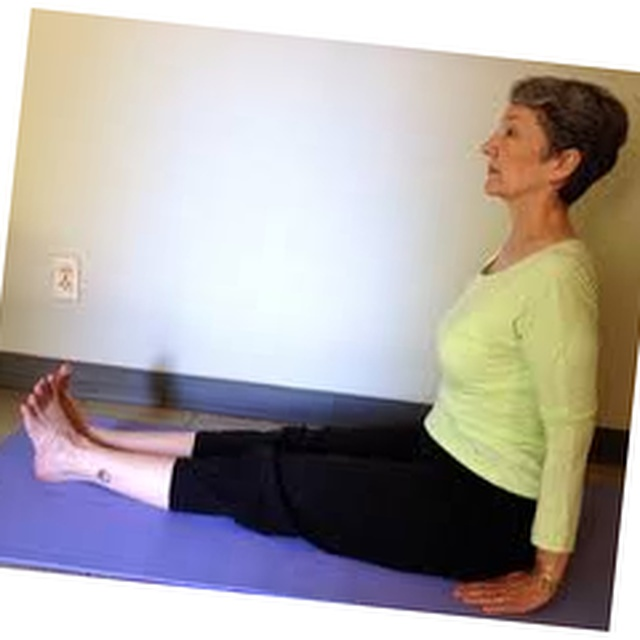Staff_Pose: (20, 77, 632, 621)
